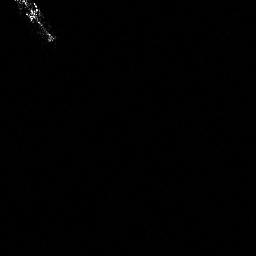ship: (10, 1, 58, 45)
